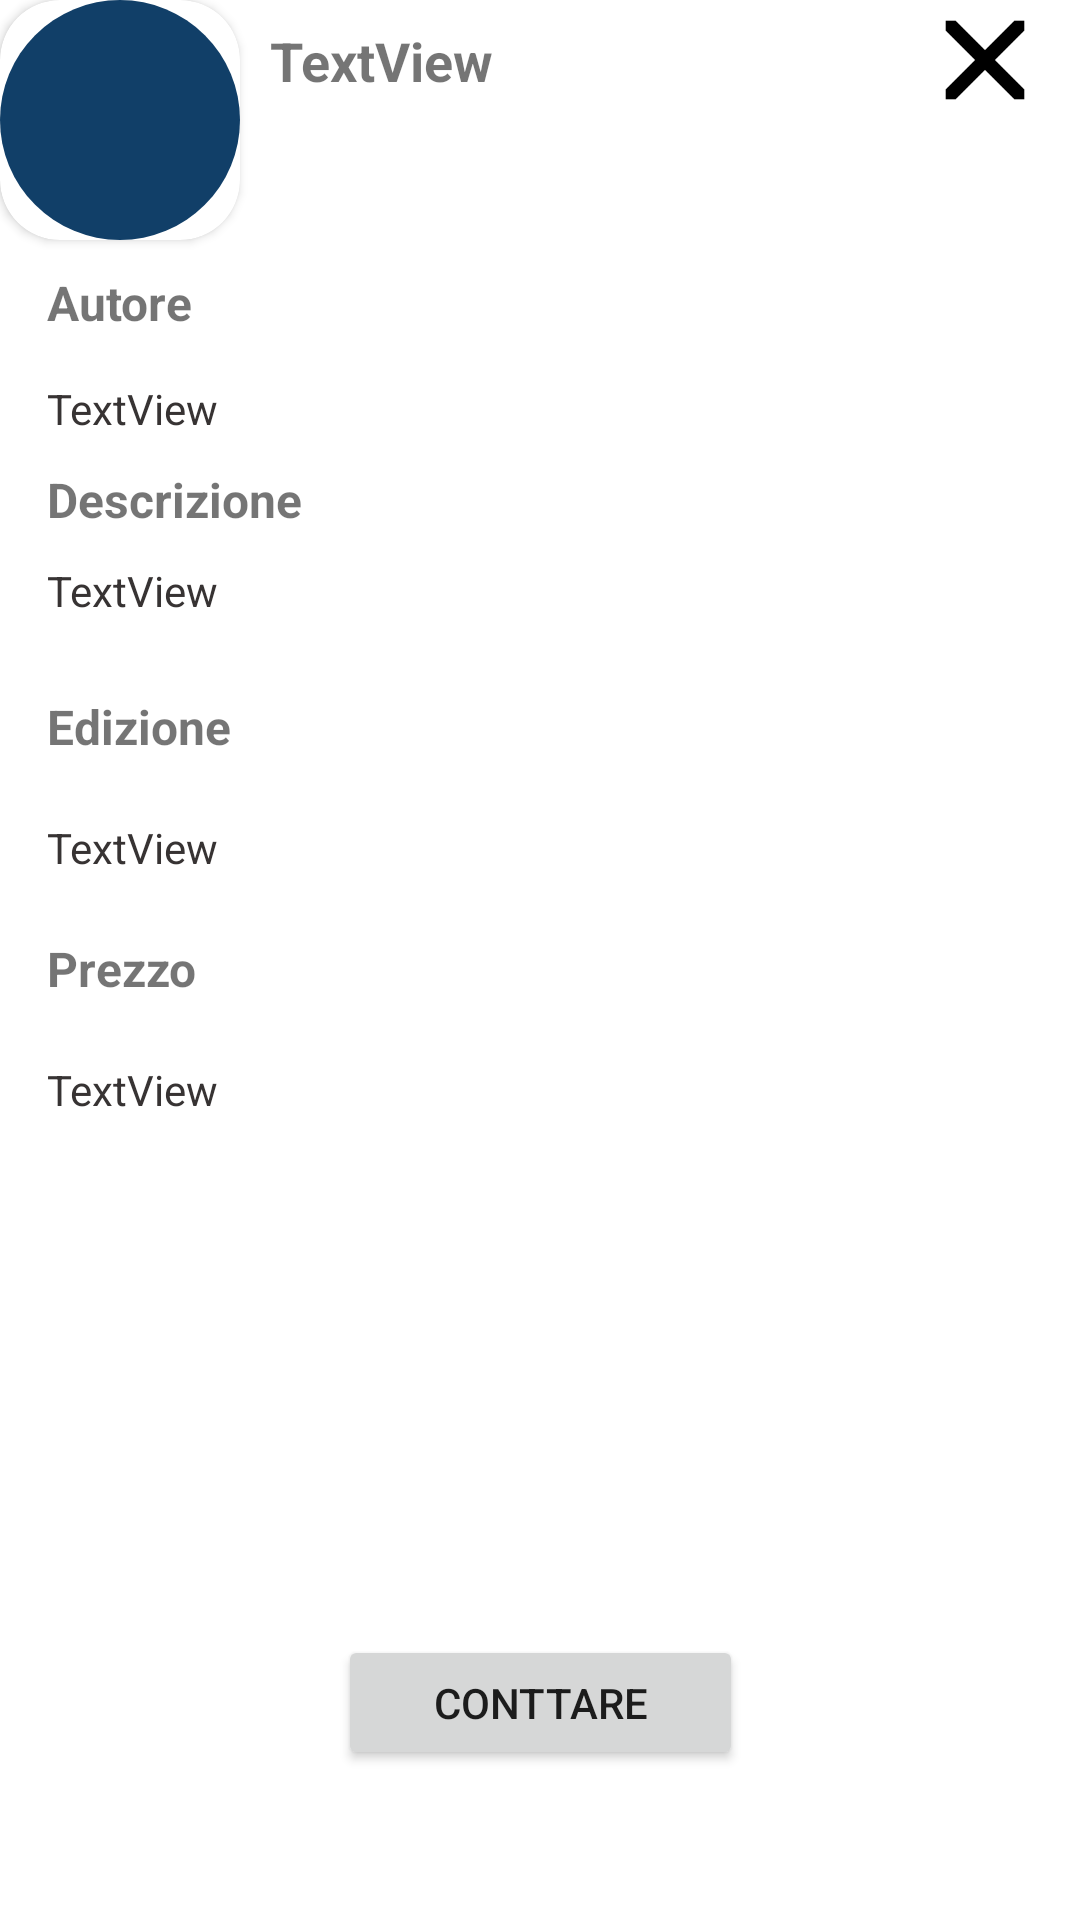

Named icons in this screenshot (1080*1920) and their bounding boxes, (x1=x1, y1=y1, x2=x2, y2=y2):
close: (x1=945, y1=20, x2=1025, y2=100)
